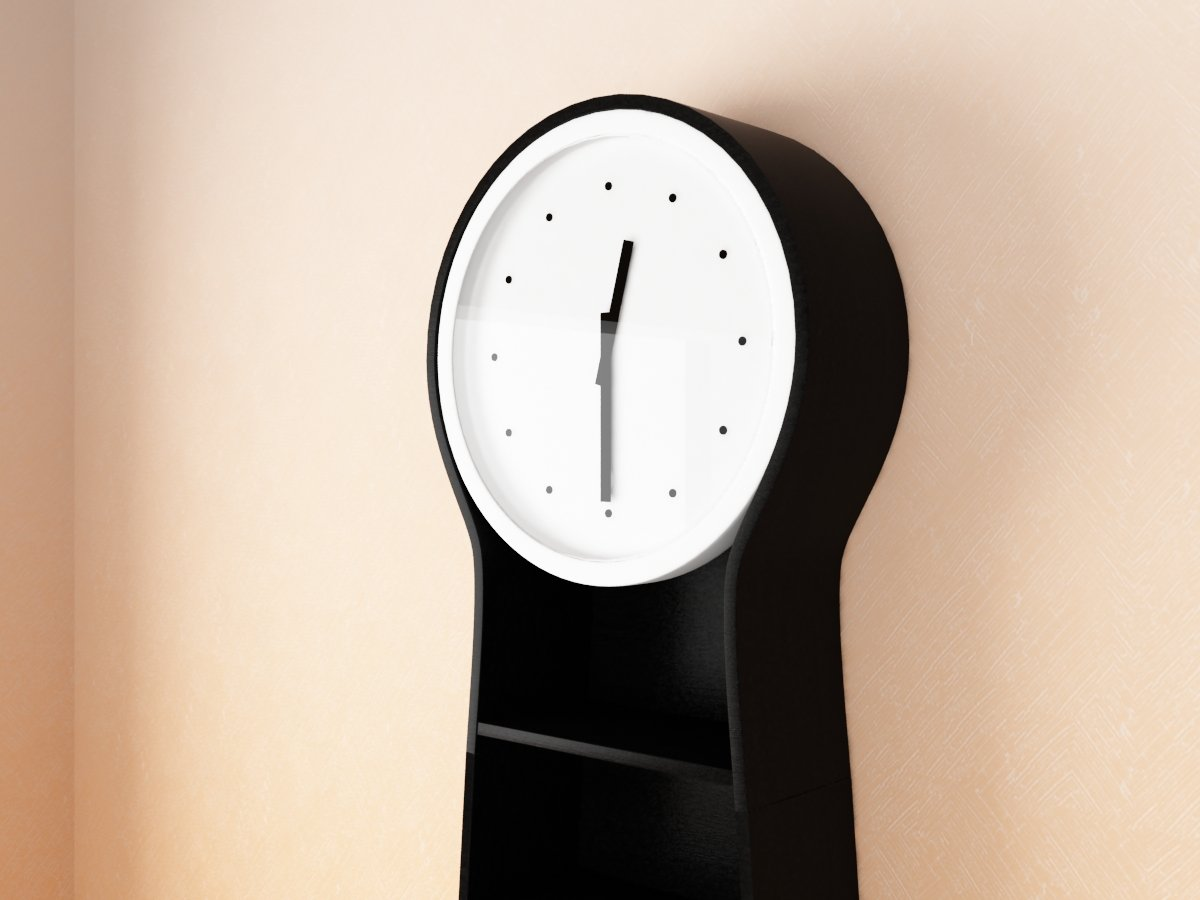clock: (428, 95, 796, 589)
